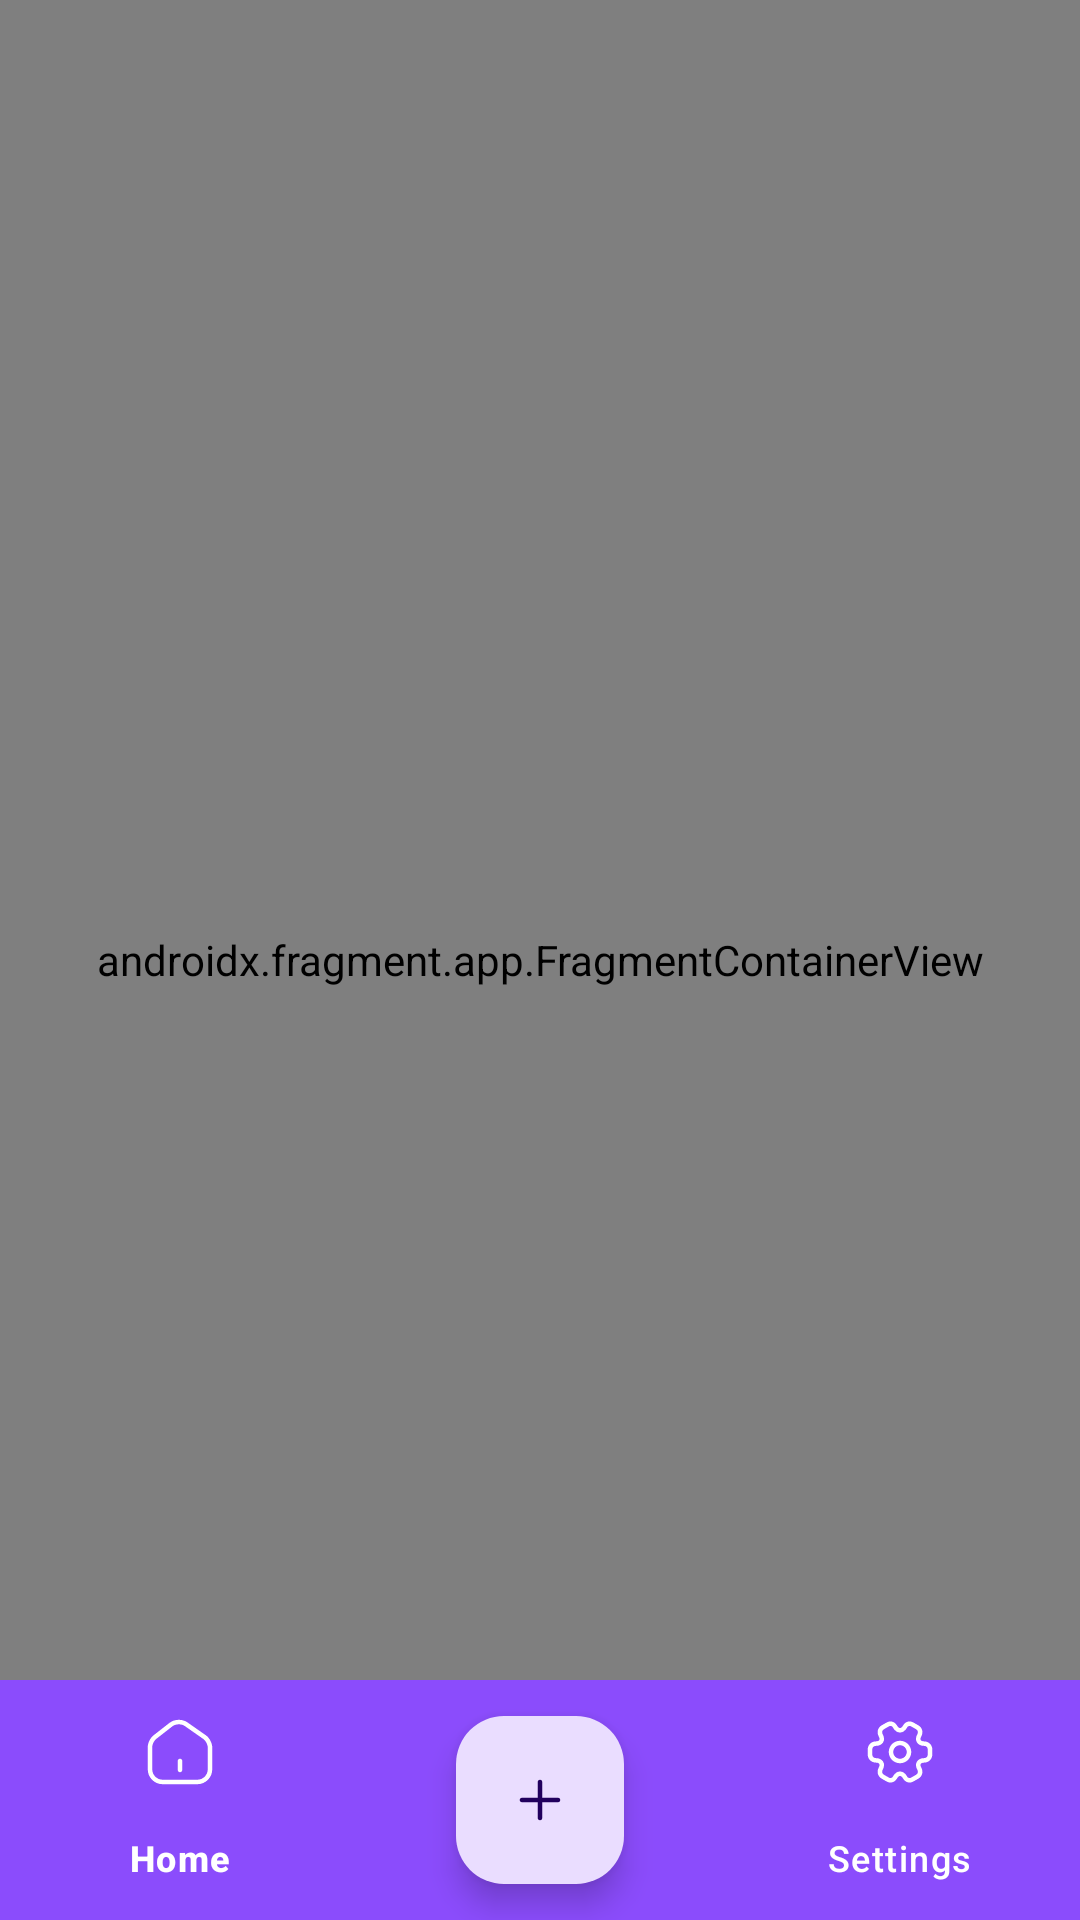

Locate icon controls on the screen. Image size 1080px×1920px, boxes as (x1, y1, x2, y2).
plus: (456, 1716, 624, 1884)
